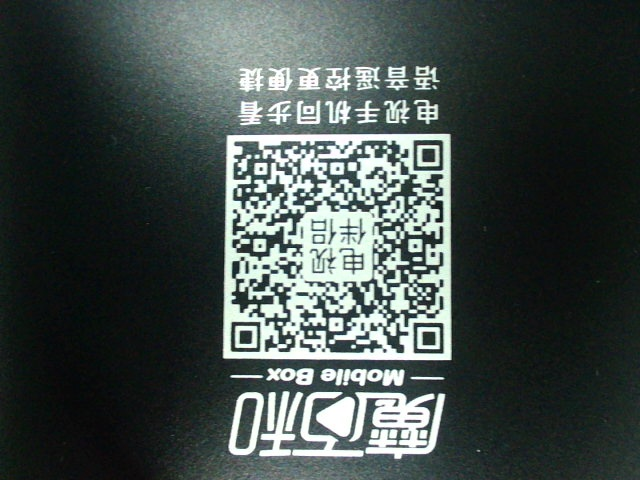AZ_MobileBox: (218, 58, 460, 460)
